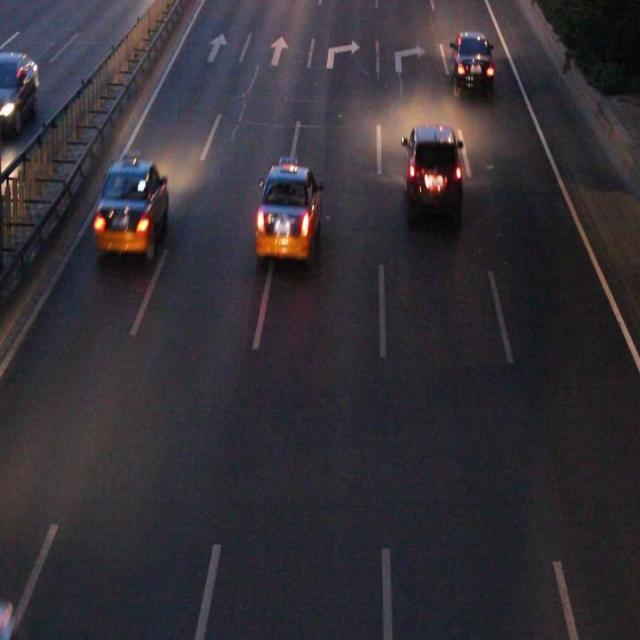car: (98, 162, 166, 253), (255, 166, 319, 256), (405, 125, 461, 218), (451, 34, 492, 89), (0, 598, 14, 640)
